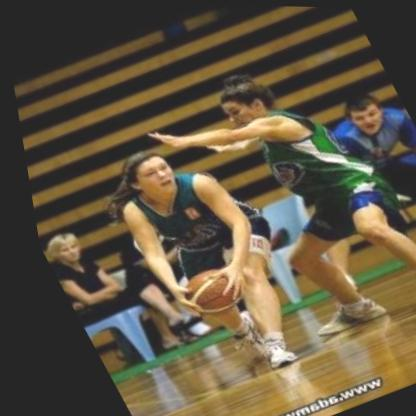basketball: (157, 252, 248, 328)
